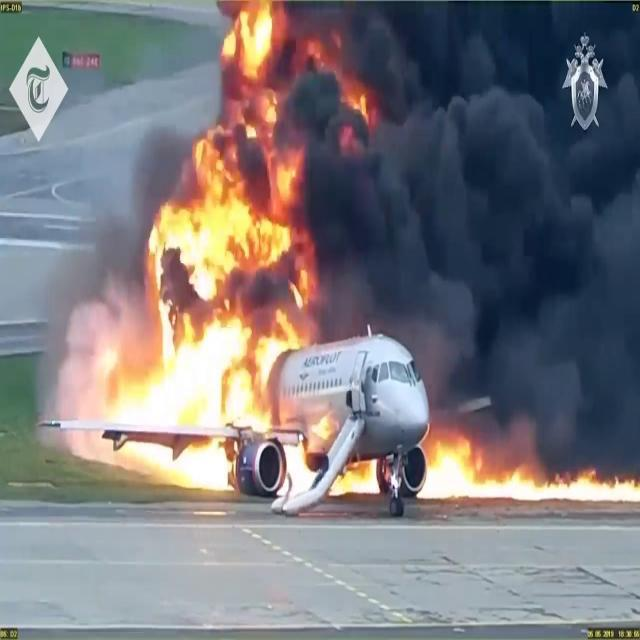Fire: (96, 5, 332, 495), (425, 421, 640, 503)
Smoke: (45, 274, 147, 426)
